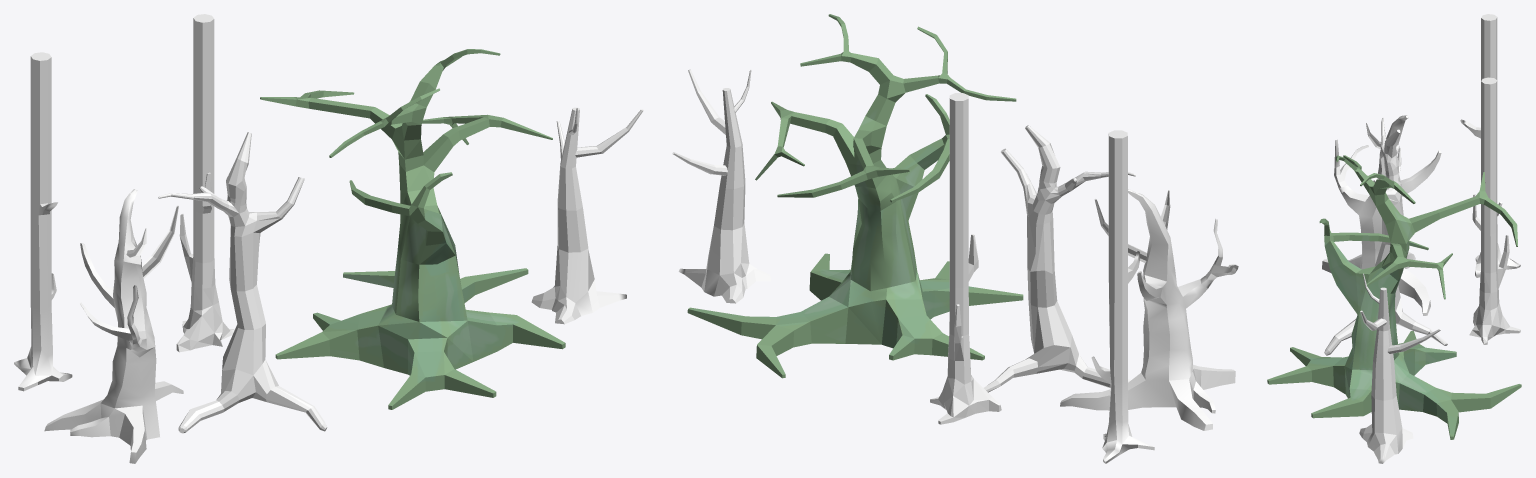
The model's file is 1222ObjLuluTest.obj.
The picture shows the model from 3 angles, left to right: view 1: azimuth 30°, elevation 25°; view 2: azimuth 150°, elevation 25°; view 3: azimuth 270°, elevation 25°; orthographic projection. The views are drawn at different scales.
Parts seen in each view (by area): view 1: TreeGroup1_TreeTrunk3SG, TreeGroup1_TreeTrunk1SG, TreeGroup1_TreeTrunk2SG, TreeGroup1_TreeTrunk6SG, TreeTrunk5_TreeTrunk5SG, TreeGroup1_TreeTrunk4SG; view 2: TreeGroup1_TreeTrunk3SG, TreeGroup1_TreeTrunk1SG, TreeGroup1_TreeTrunk2SG, TreeGroup1_TreeTrunk6SG, TreeGroup1_TreeTrunk4SG, TreeTrunk5_TreeTrunk5SG; view 3: TreeGroup1_TreeTrunk3SG, TreeGroup1_TreeTrunk6SG, TreeGroup1_TreeTrunk4SG, TreeGroup1_TreeTrunk1SG, TreeGroup1_TreeTrunk2SG, TreeTrunk5_TreeTrunk5SG.
Boxes of the visible parts, x1,y1,x2,y2 form: TreeGroup1_TreeTrunk3SG: (260,49,565,409); TreeGroup1_TreeTrunk1SG: (44,189,183,463); TreeGroup1_TreeTrunk2SG: (158,132,327,433); TreeGroup1_TreeTrunk6SG: (176,14,234,352); TreeTrunk5_TreeTrunk5SG: (14,52,72,391); TreeGroup1_TreeTrunk4SG: (531,107,643,324); TreeGroup1_TreeTrunk3SG: (687,14,1023,378); TreeGroup1_TreeTrunk1SG: (1060,189,1238,430); TreeGroup1_TreeTrunk2SG: (984,125,1135,392); TreeGroup1_TreeTrunk6SG: (930,93,1001,424); TreeGroup1_TreeTrunk4SG: (672,69,771,303); TreeTrunk5_TreeTrunk5SG: (1091,130,1154,463); TreeGroup1_TreeTrunk3SG: (1267,155,1521,439); TreeGroup1_TreeTrunk6SG: (1469,77,1520,344); TreeGroup1_TreeTrunk4SG: (1359,273,1440,463); TreeGroup1_TreeTrunk1SG: (1322,115,1441,315); TreeGroup1_TreeTrunk2SG: (1324,117,1447,355); TreeTrunk5_TreeTrunk5SG: (1460,14,1520,277).
Bounding box in the file's own units: 2757 × 1590 × 1361.
6 materials, 6 textured.
